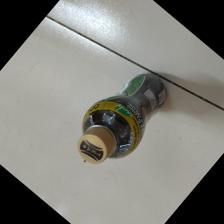Olong: (76, 71, 168, 167)
